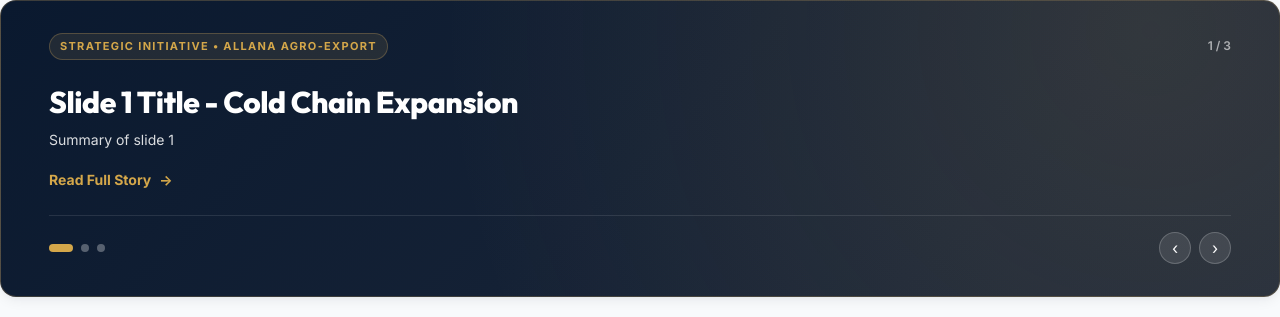
it: HeroSlider component › navigates slides forward and backward using next/prev buttons
Expected: the heading "Slide 1 Title - Cold Chain Expansion" is shown, [49,82,518,120]
Expected: the text with test id "slide-counter" reads "1 / 3", [1208,37,1231,55]
# Click next button
Step 1. Click the button with test id "slider-next-btn" → (1215, 248), box [1199,232,1231,264]
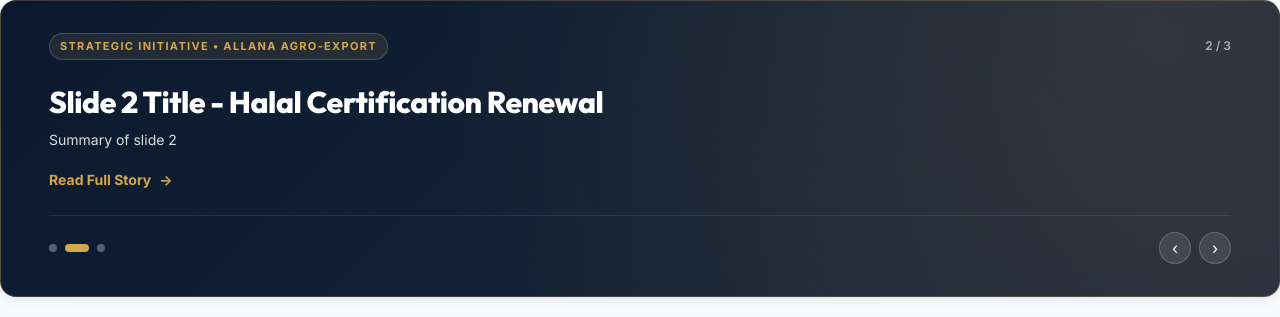
Now the heading "Slide 2 Title - Halal Certification Renewal" is shown, box [49,82,603,120]
Now the text with test id "slide-counter" reads "2 / 3", box [1205,37,1231,55]
# Click next again to go to slide 3
Step 2. Click the button with test id "slider-next-btn" → (1215, 248), box [1199,232,1231,264]
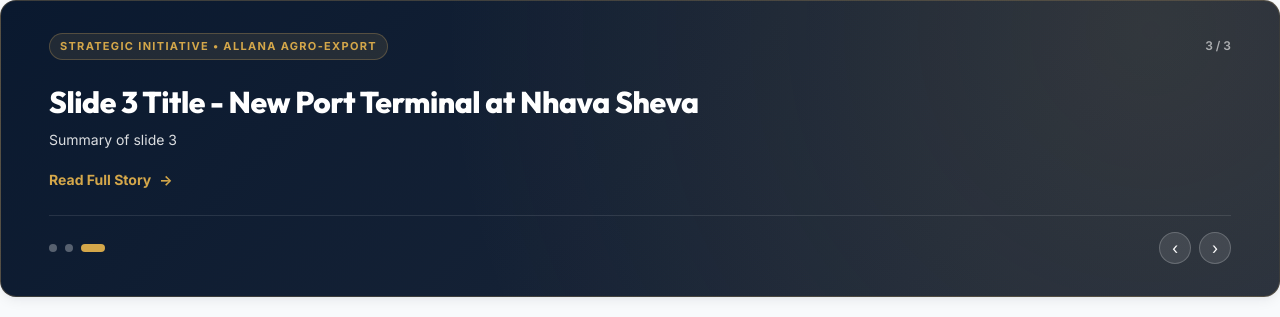
Now the heading "Slide 3 Title - New Port Terminal at Nhava Sheva" is shown, box [49,82,699,120]
Now the text with test id "slide-counter" reads "3 / 3", box [1205,37,1231,55]
# Click next again to wrap around to slide 1
Step 3. Click the button with test id "slider-next-btn" → (1215, 248), box [1199,232,1231,264]
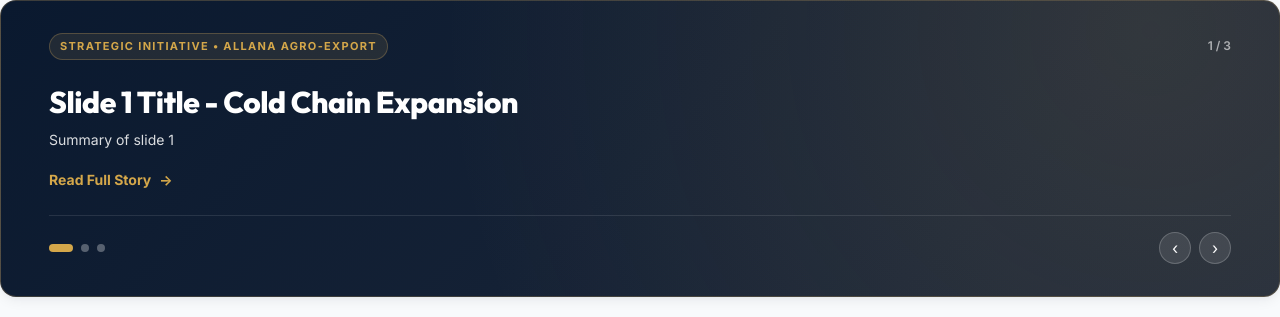
Now the heading "Slide 1 Title - Cold Chain Expansion" is shown, box [49,82,518,120]
Now the text with test id "slide-counter" reads "1 / 3", box [1208,37,1231,55]
# Click prev to wrap backwards to slide 3
Step 4. Click the button with test id "slider-prev-btn" → (1175, 248), box [1159,232,1191,264]
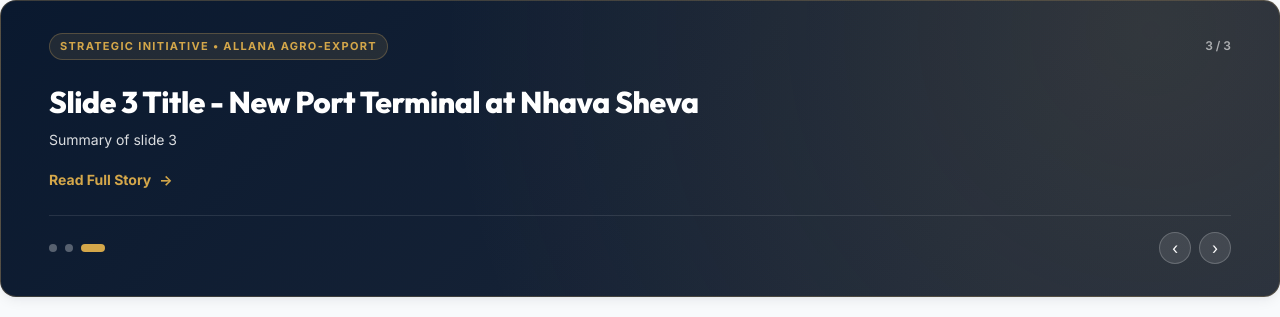
Now the heading "Slide 3 Title - New Port Terminal at Nhava Sheva" is shown, box [49,82,699,120]
Now the text with test id "slide-counter" reads "3 / 3", box [1205,37,1231,55]
# Click prev again to go to slide 2
Step 5. Click the button with test id "slider-prev-btn" → (1175, 248), box [1159,232,1191,264]
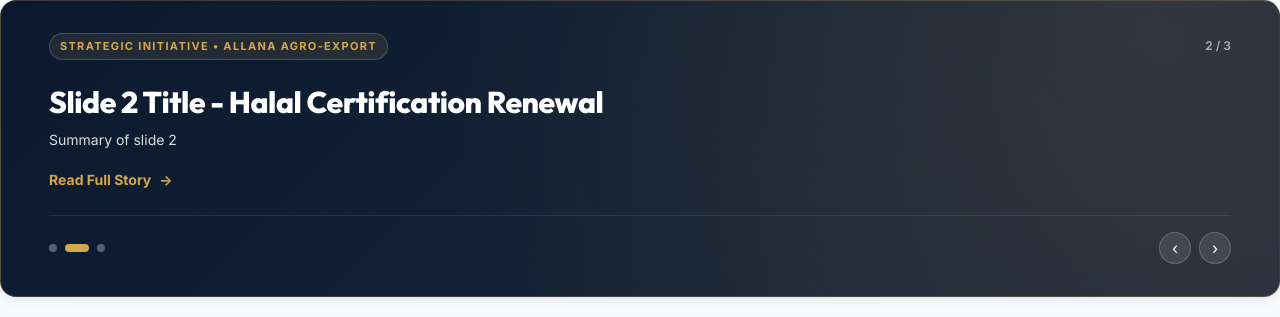
Now the heading "Slide 2 Title - Halal Certification Renewal" is shown, box [49,82,603,120]
Now the text with test id "slide-counter" reads "2 / 3", box [1205,37,1231,55]
